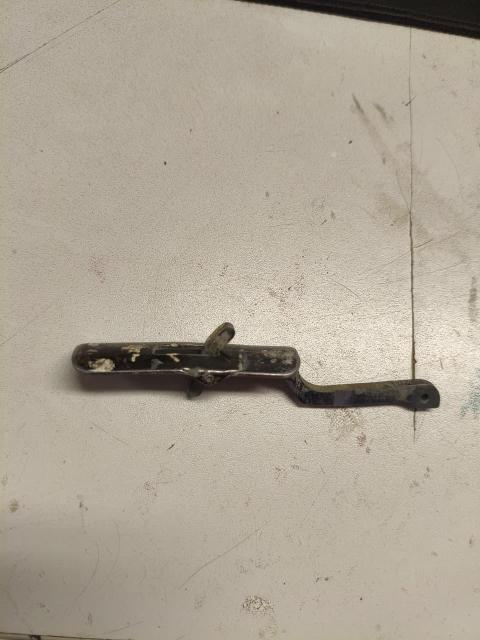Metal: (67, 325, 452, 427)
